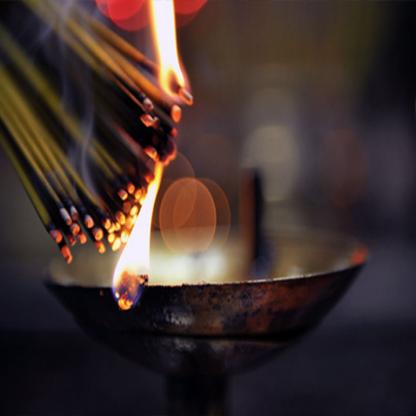fire: (102, 5, 198, 315)
smoke: (30, 1, 112, 204)
